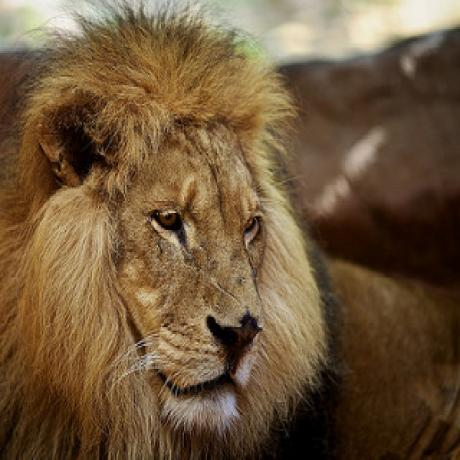Lion: (0, 8, 327, 460)
